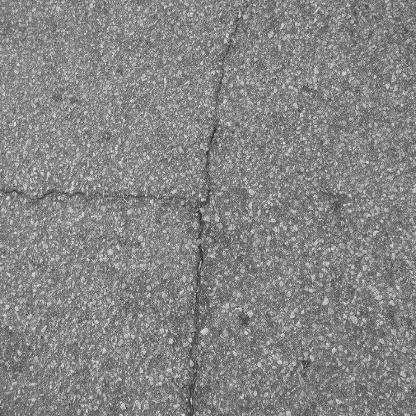Cracks: (0, 0, 255, 416)
